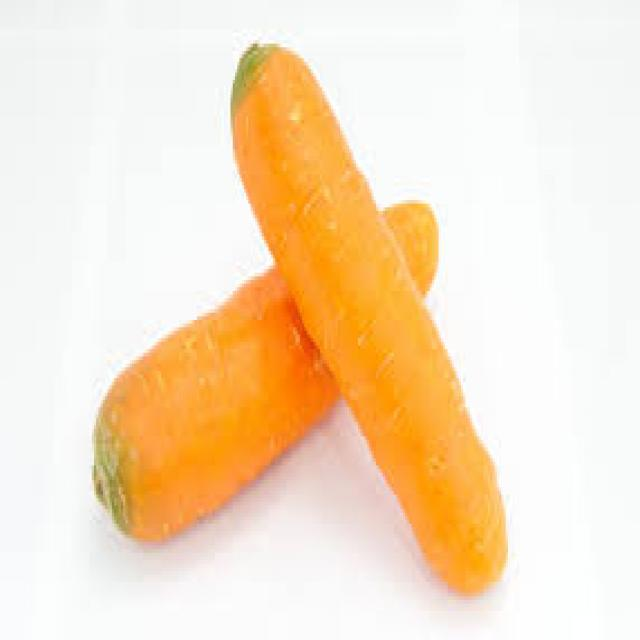organic waste: (228, 36, 508, 593), (90, 196, 437, 542)
